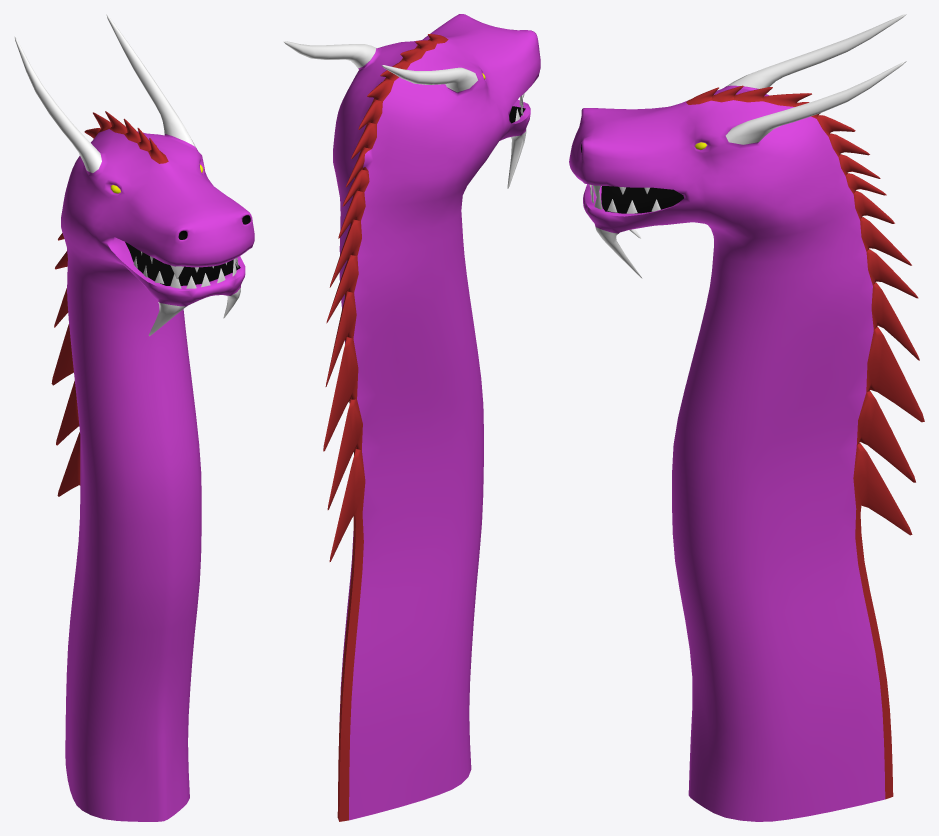
The model's file is dragon pink.fbx.
3 views of the same model, side by side, from view 1: azimuth 30°, elevation 25°; view 2: azimuth 150°, elevation 25°; view 3: azimuth 270°, elevation 25° (orthographic). The views are drawn at different scales.
Visible parts, largest first — view 1: Tooth_16; view 2: Tooth_16; view 3: Tooth_16.
Boxes of the visible parts, x1,y1,x2,y2 form: Tooth_16: (14, 14, 254, 821); Tooth_16: (283, 14, 540, 821); Tooth_16: (569, 14, 924, 821).
Bounding box in the file's own units: 327 × 1728 × 733.
